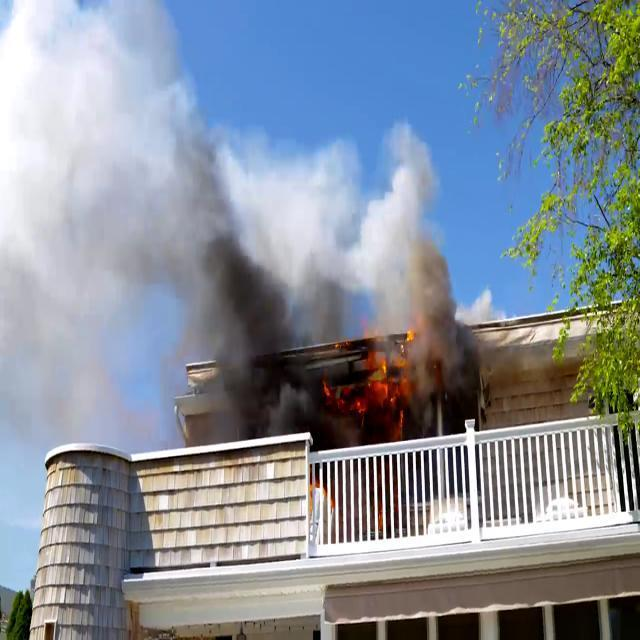Fire: (342, 348, 416, 419)
Smoke: (0, 0, 355, 443), (350, 131, 504, 412)
